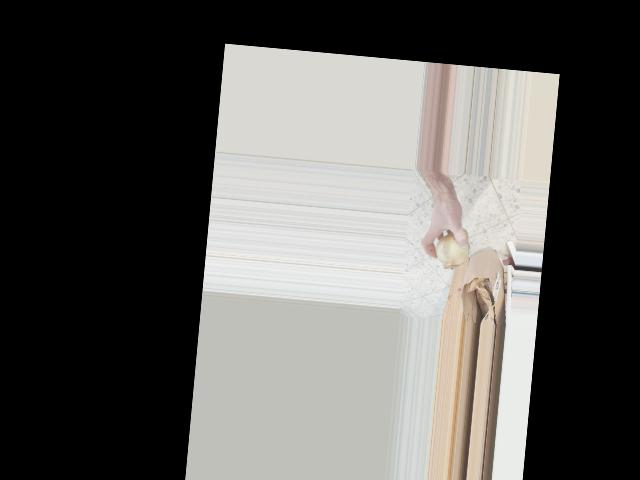onion: (430, 222, 474, 272)
